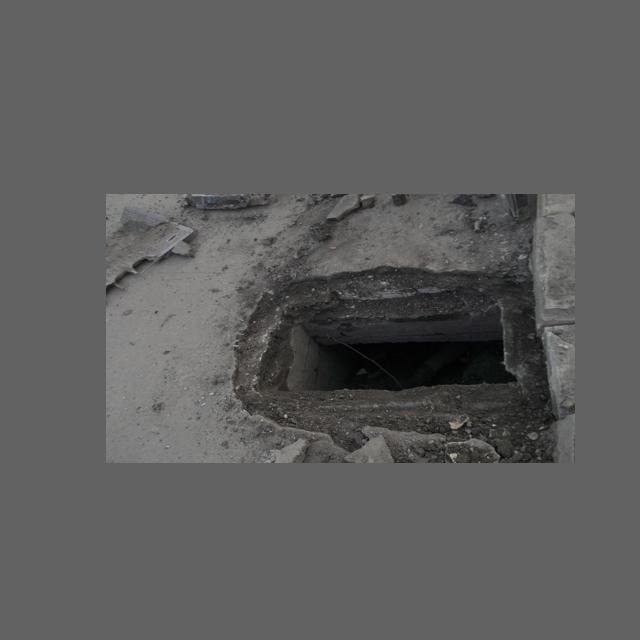lose: (280, 302, 520, 393)
